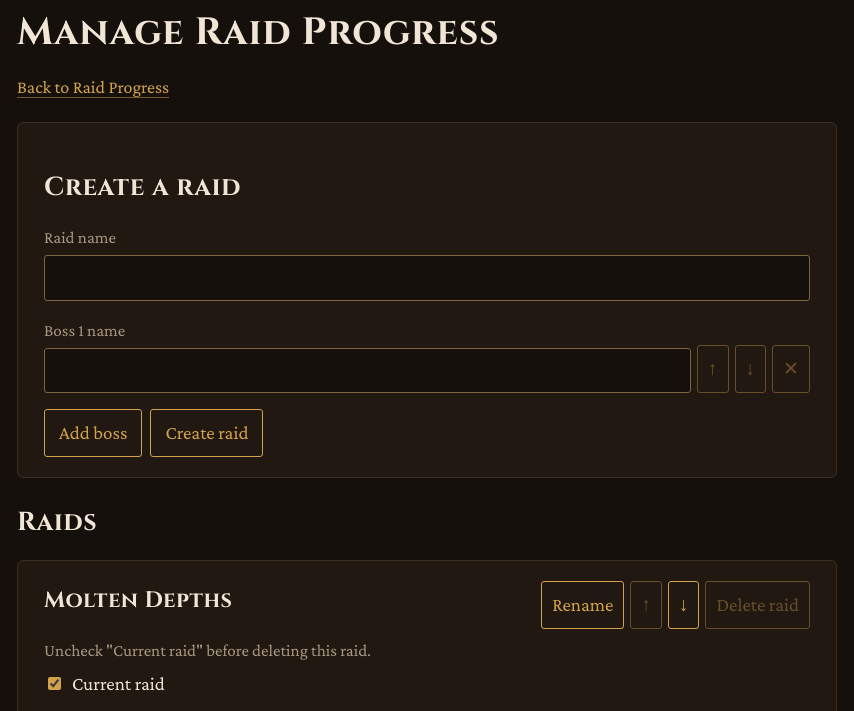
OfficerRaidProgress › should show the API error message when creating a tier is rejected
Click the button "Create raid" at (207, 433), box top-left (150, 409), bottom-right (263, 457)
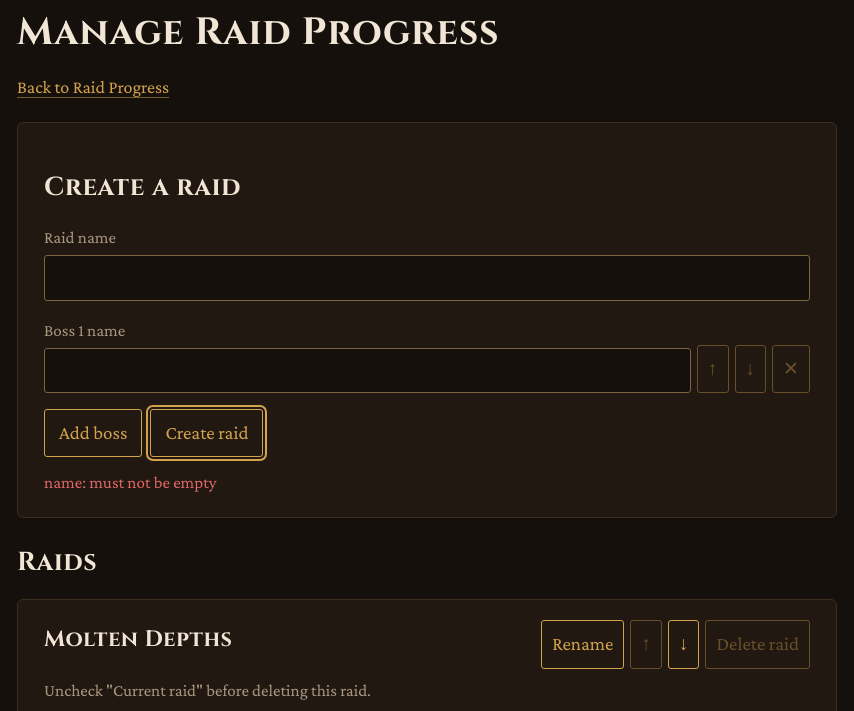
Now the message reads "name: must not be empty", box top-left (44, 473), bottom-right (216, 492)
